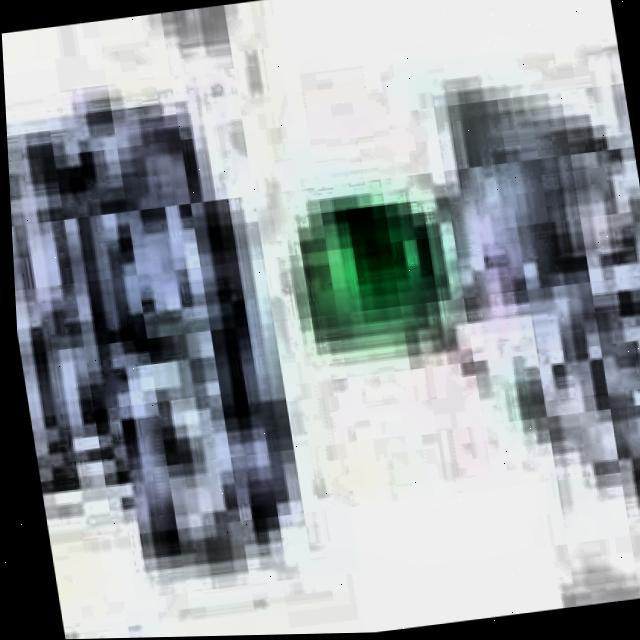plastic: (226, 0, 640, 559), (3, 71, 324, 600)
